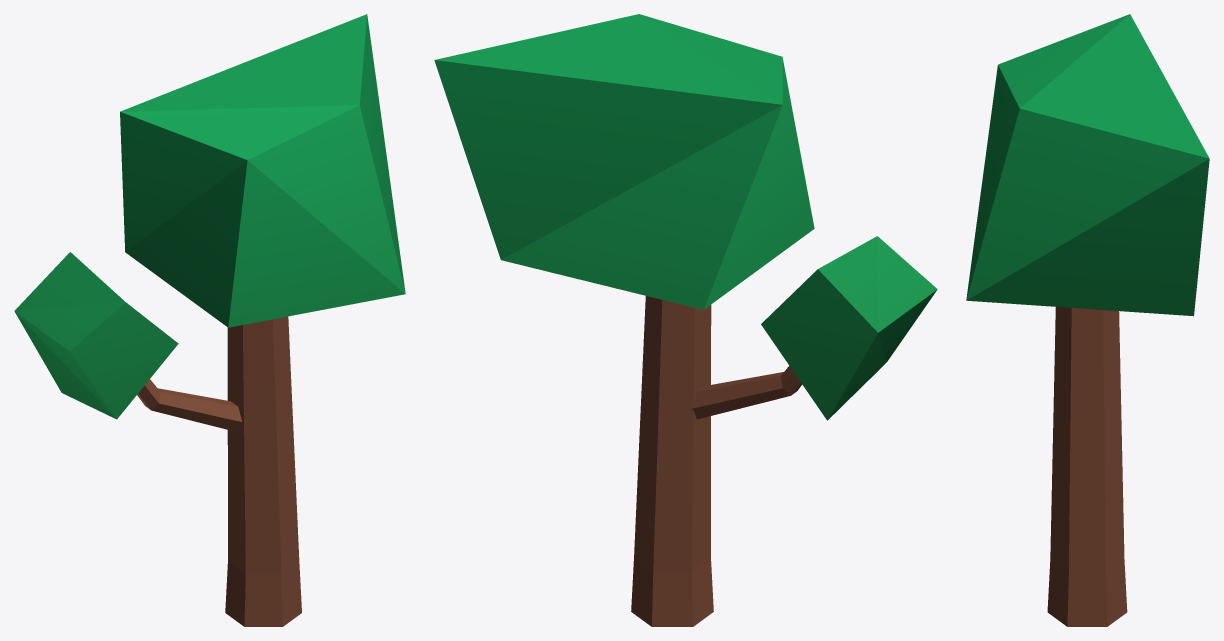
File: Tree_45_gradient_green_vc.fbx
The picture shows the model from 3 angles, left to right: view 1: azimuth 30°, elevation 25°; view 2: azimuth 150°, elevation 25°; view 3: azimuth 270°, elevation 25°; orthographic projection. The views are drawn at different scales.
Parts seen in each view (by area): view 1: Tree_45_gradient_green_vc; view 2: Tree_45_gradient_green_vc; view 3: Tree_45_gradient_green_vc.
Part boxes in pixels (box(x1,y1,x2,y2)): Tree_45_gradient_green_vc: box(14, 14, 405, 626); Tree_45_gradient_green_vc: box(434, 14, 937, 626); Tree_45_gradient_green_vc: box(966, 14, 1209, 626).
Size of the model in its own units: 139 by 179 by 73.58.
